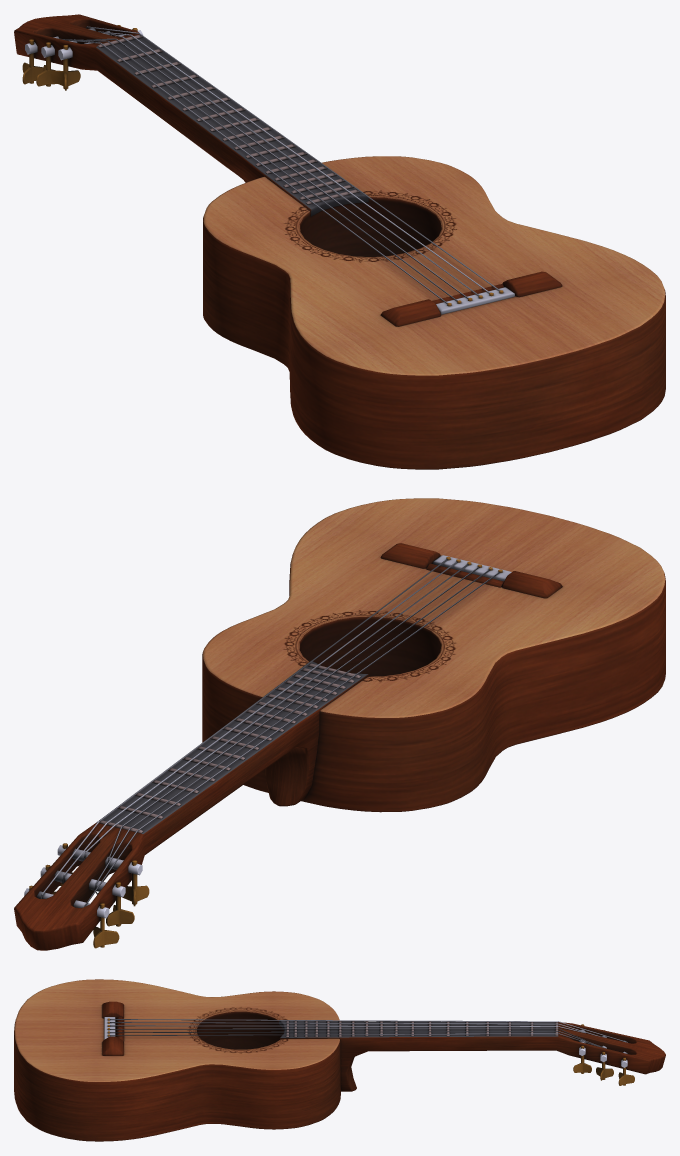
Rendered from acoustic_guitar.obj.
3 renders of one model, top to bottom at view 1: azimuth 30°, elevation 25°; view 2: azimuth 150°, elevation 25°; view 3: azimuth 270°, elevation 25°, orthographic. The views are drawn at different scales.
Visible parts, largest first — view 1: Object01; view 2: Object01; view 3: Object01.
Boxes of the visible parts, left/top/right/bottom form: Object01: left=14, top=14, right=665, bottom=469; Object01: left=14, top=498, right=665, bottom=950; Object01: left=14, top=979, right=665, bottom=1141.
Size of the model in its own units: 51.31 by 15.22 by 137.
1 material, 1 textured.
